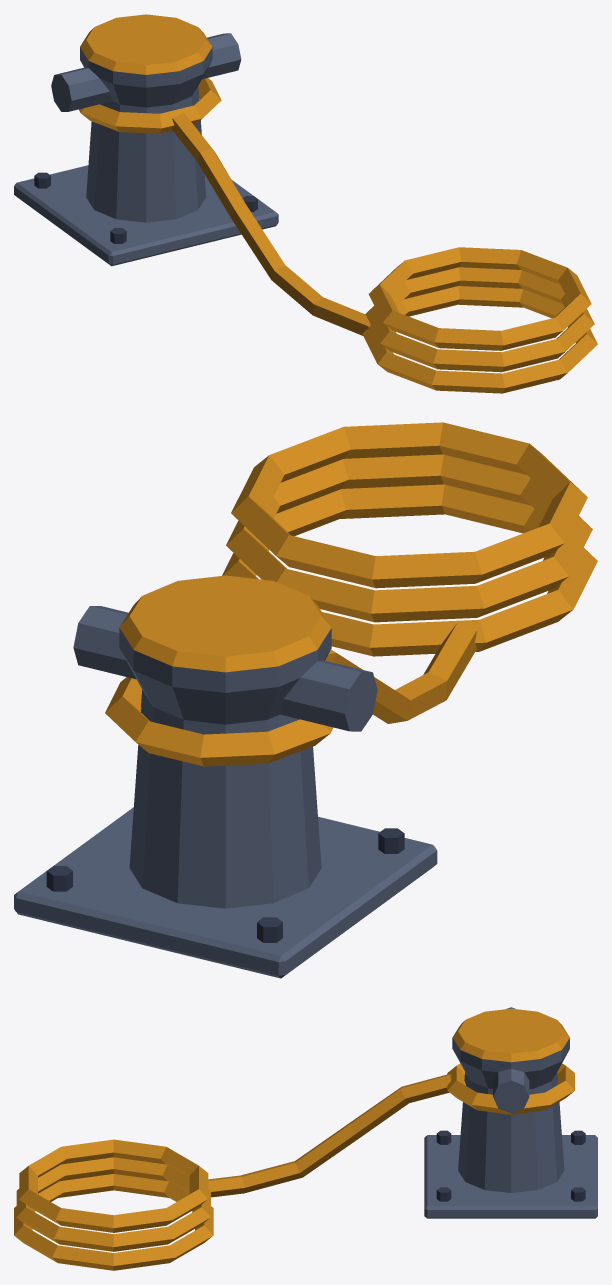
File: port_bollard_rope.glb
3 views of the same model, one above another, from view 1: azimuth 30°, elevation 25°; view 2: azimuth 150°, elevation 25°; view 3: azimuth 270°, elevation 25° (orthographic). The views are drawn at different scales.
Visible parts, largest first — view 1: rope, bollard, anchor_bolt; view 2: rope, bollard, anchor_bolt; view 3: rope, bollard, anchor_bolt.
Boxes of the visible parts, left/top/right/bottom form: rope: left=79, top=14, right=597, bottom=393; bollard: left=14, top=33, right=278, bottom=266; anchor_bolt: left=34, top=172, right=257, bottom=243; rope: left=105, top=422, right=597, bottom=766; bollard: left=14, top=606, right=437, bottom=978; anchor_bolt: left=46, top=828, right=404, bottom=942; rope: left=14, top=1008, right=574, bottom=1270; bollard: left=424, top=1007, right=597, bottom=1218; anchor_bolt: left=436, top=1130, right=585, bottom=1201.
Size of the model in its own units: 1.09 by 0.6 by 2.09.
